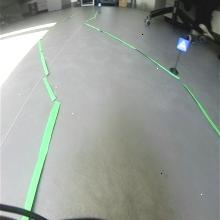crosswalk: (176, 36, 190, 52)
